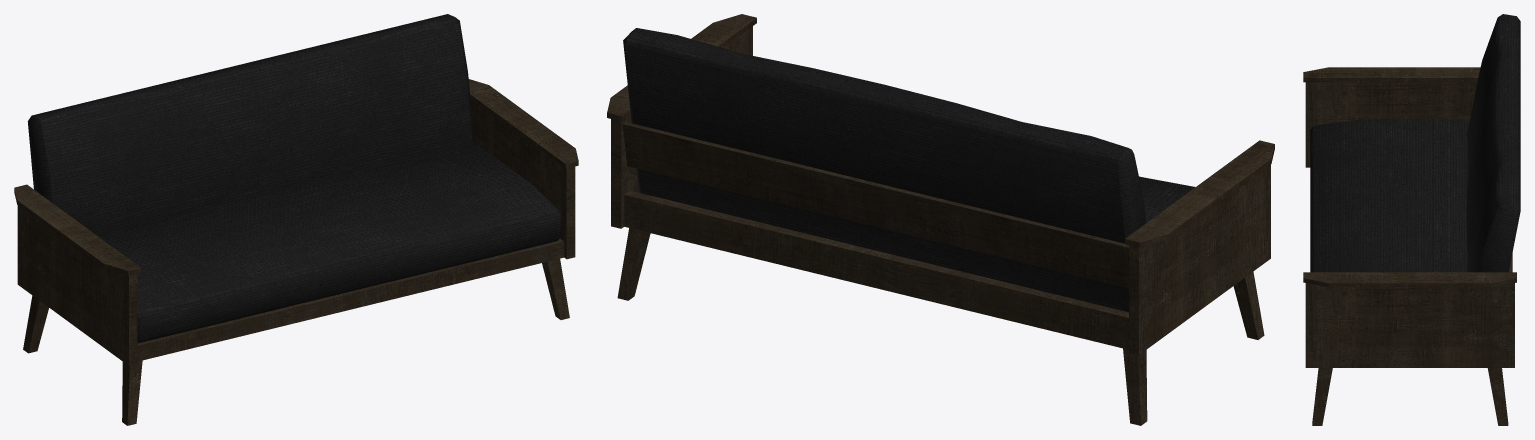
The model's file is sofa_4_3.glb.
3 views of the same model, side by side, from view 1: azimuth 30°, elevation 25°; view 2: azimuth 150°, elevation 25°; view 3: azimuth 270°, elevation 25° (orthographic). The views are drawn at different scales.
Parts seen in each view (by area): view 1: sofa_4_3; view 2: sofa_4_3; view 3: sofa_4_3.
Boxes of the visible parts, <box> form: sofa_4_3: <box>14,14,578,425</box>; sofa_4_3: <box>607,14,1274,425</box>; sofa_4_3: <box>1303,14,1520,425</box>.
Bounding box in the file's own units: 2.2 × 1.03 × 0.9346.
2 materials, 2 textured.
